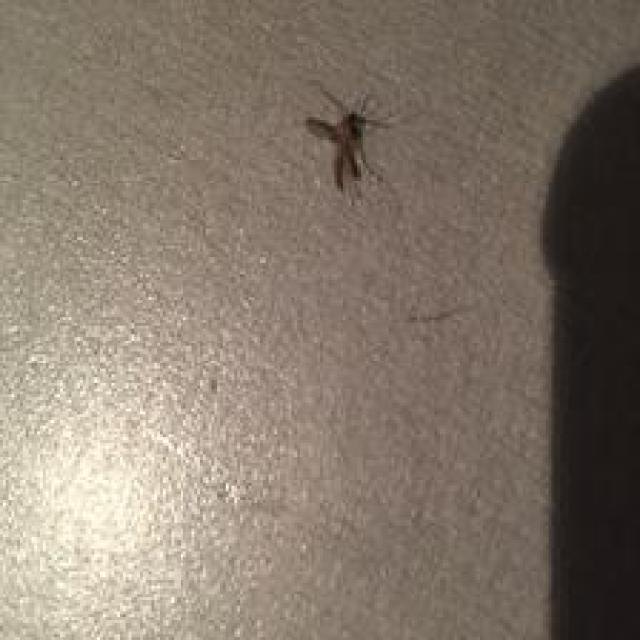Culex: (304, 83, 396, 197)
